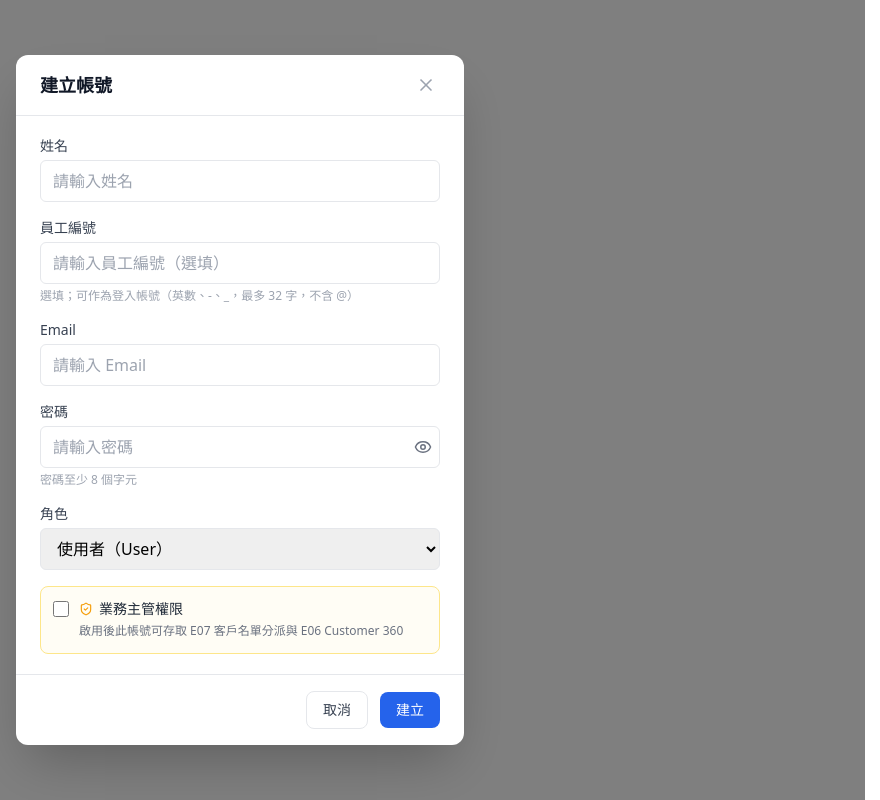
Test: CreateAccountModal › 前端欄位驗證 › Email 格式錯誤顯示錯誤
Type "Test" into the field labelled "姓名" at (240, 181), box [40,160,440,202]
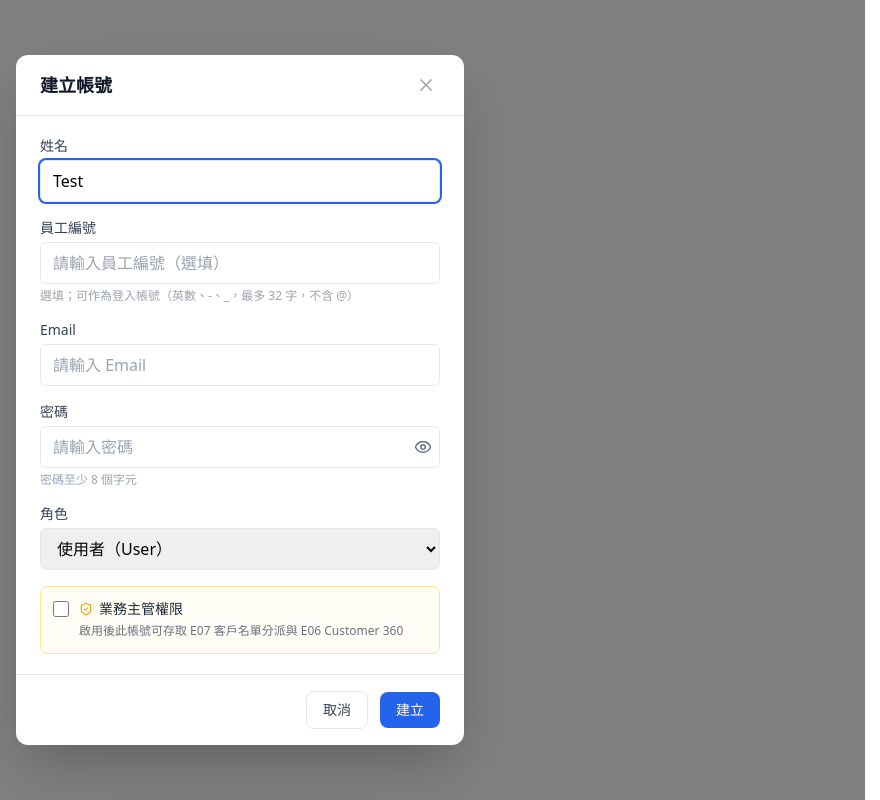
Type "not-valid" into the field labelled "Email" at (240, 365), box [40,344,440,386]
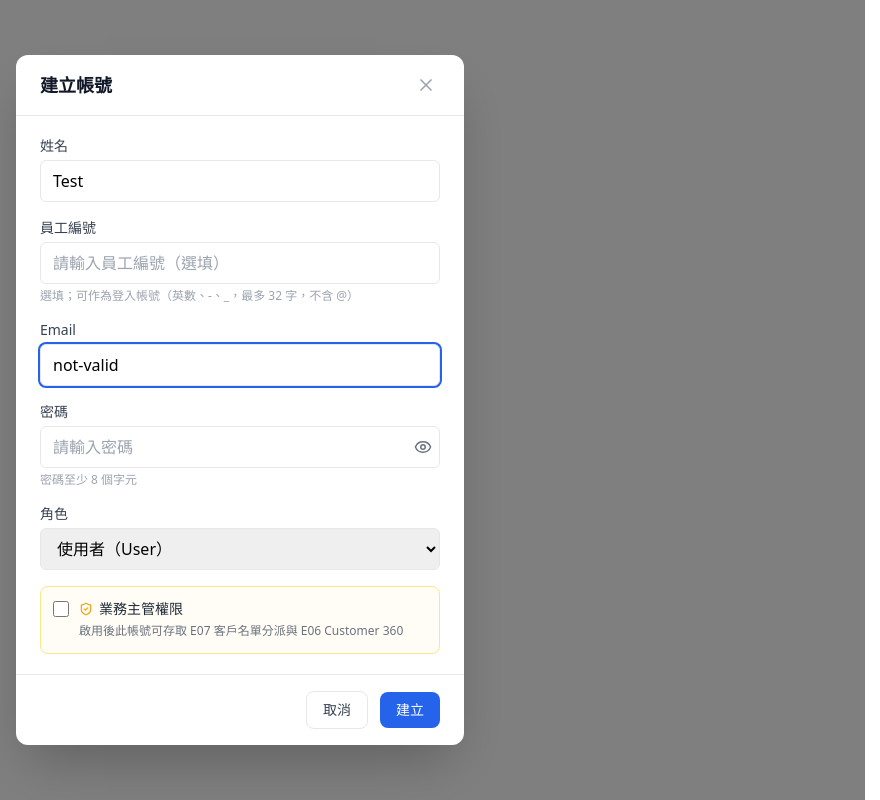
Type "password123" into the password field labelled "密碼" at (240, 447), box [40,426,440,468]
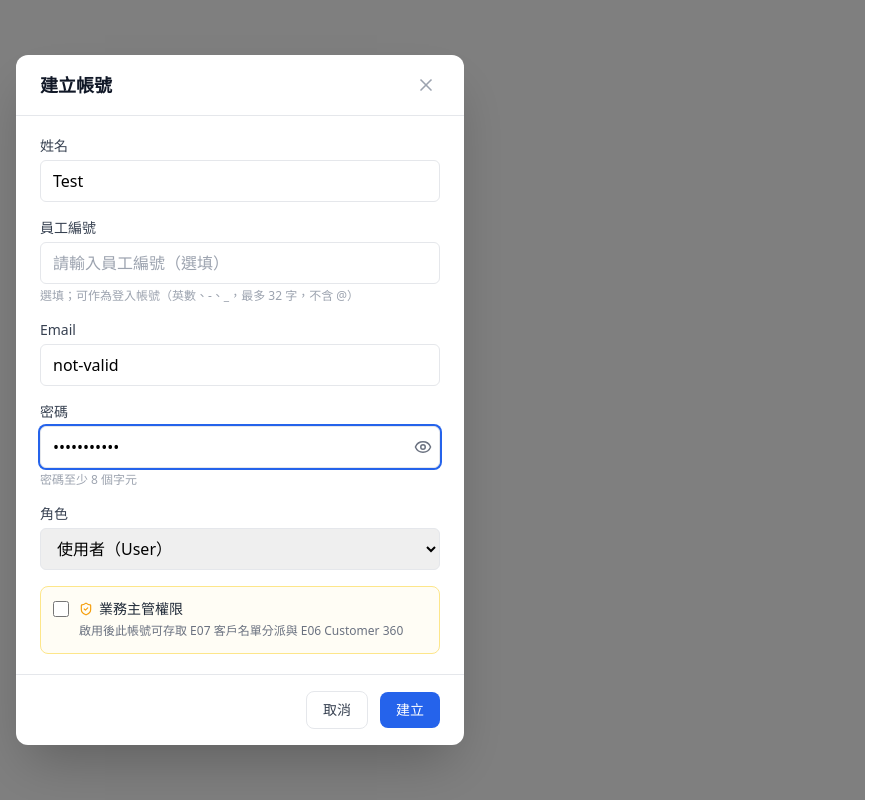
Click the button "建立" at (410, 710), box [380,692,440,728]
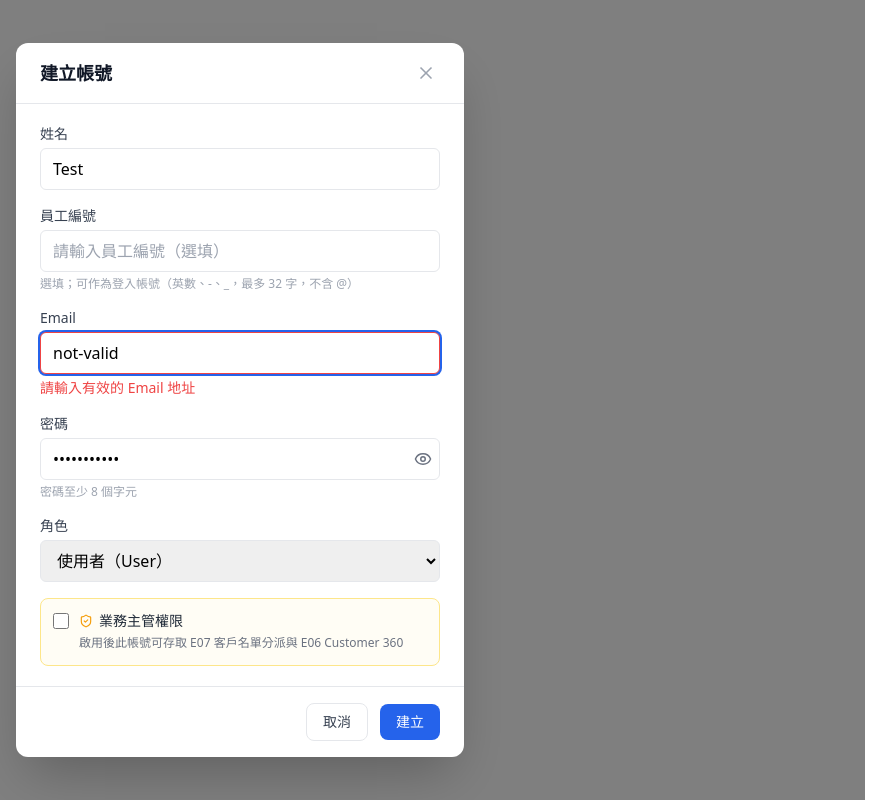
expect the text "請輸入有效的 Email 地址" is shown: met, box [40,378,195,397]
